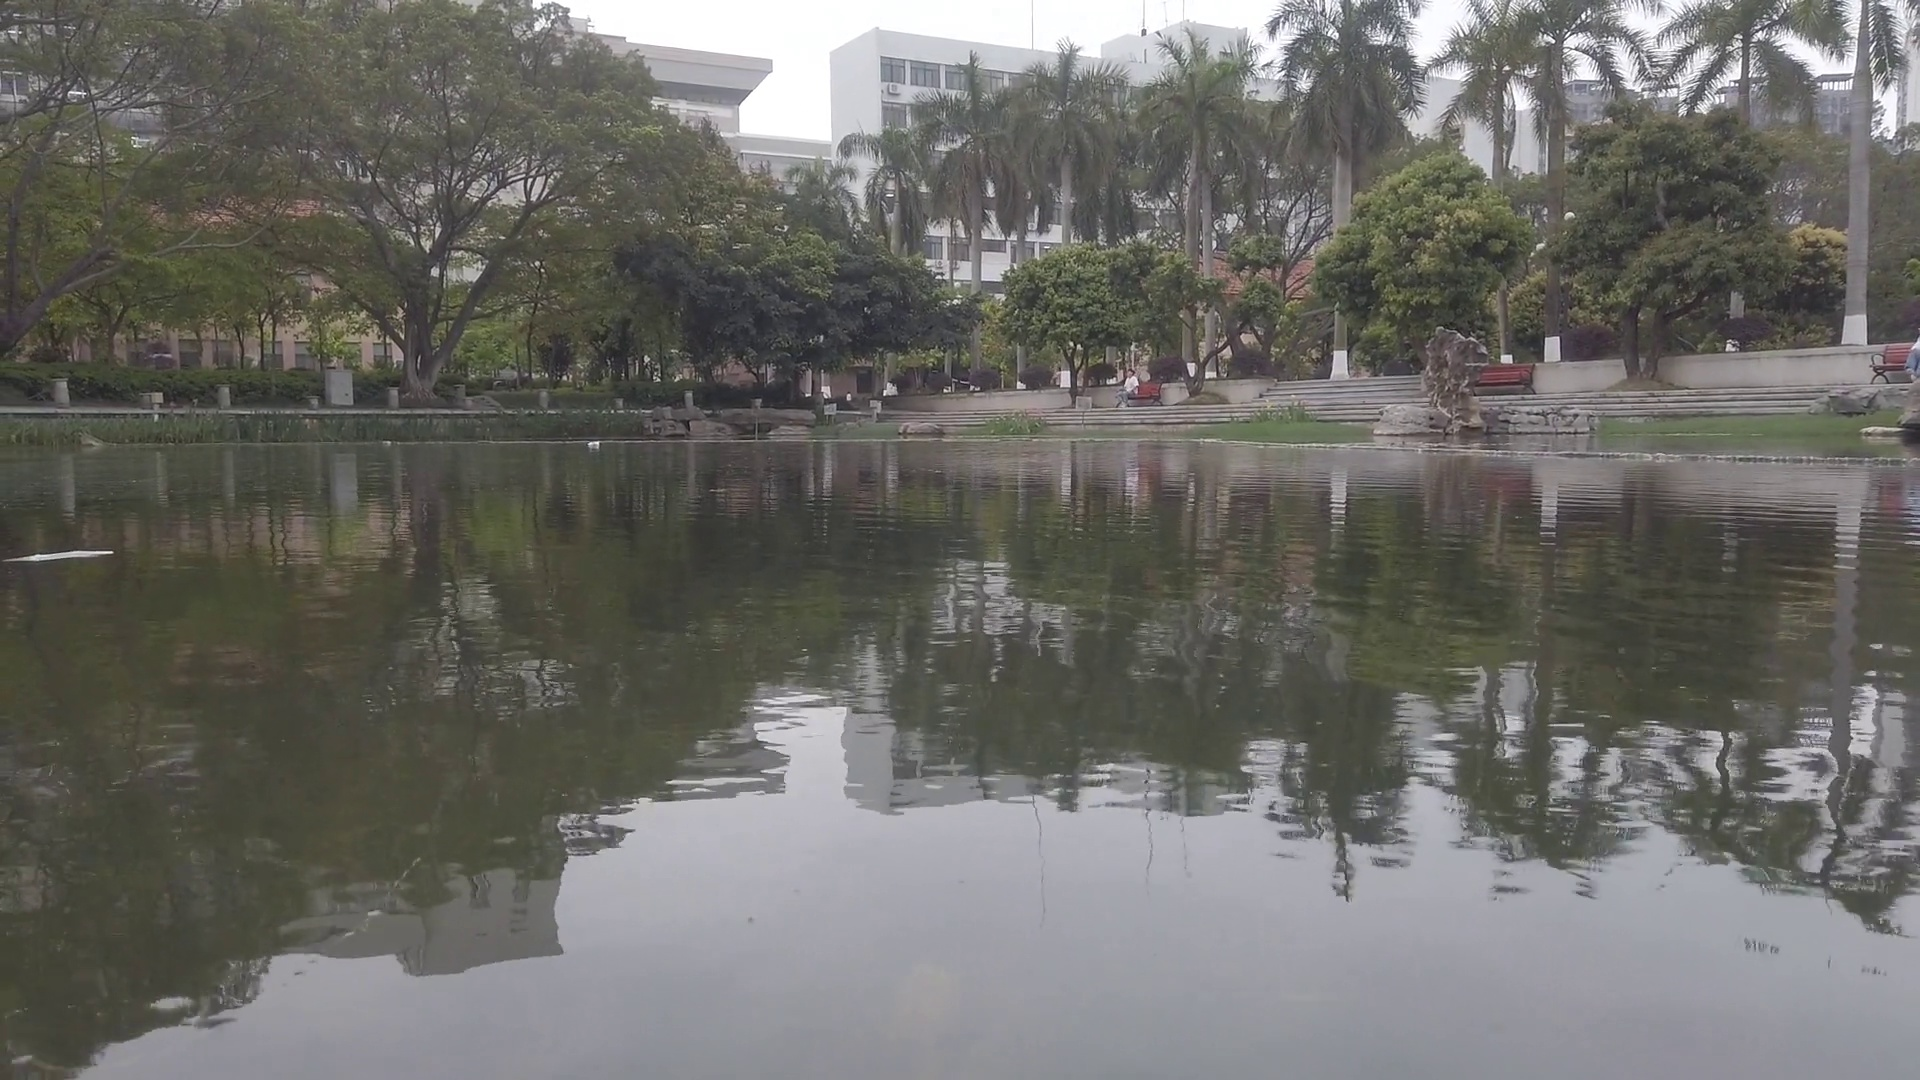bottle: (588, 442, 601, 447)
paper: (13, 538, 109, 567)
